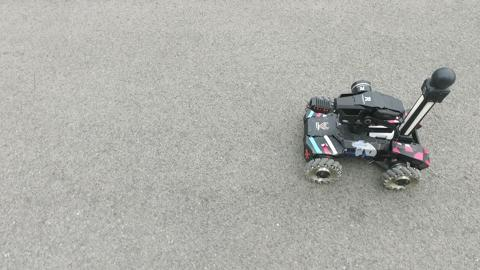chariot: (301, 66, 456, 192)
